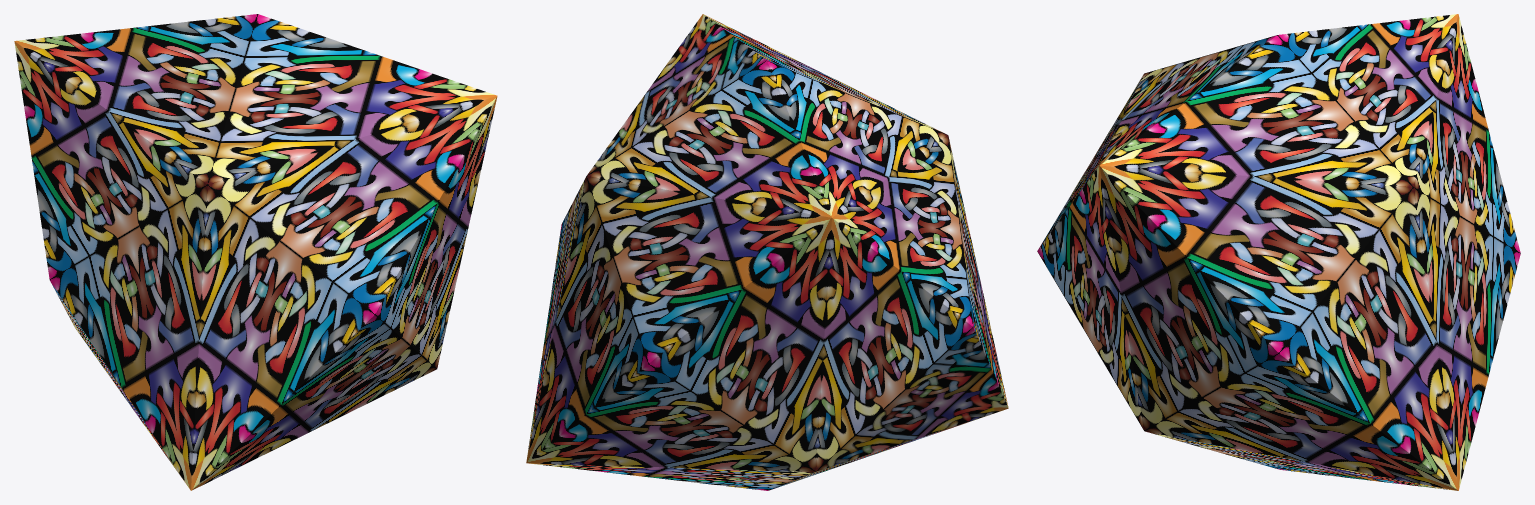
The model's file is 33HexakisTetrahedron.obj.
3 views of the same model, side by side, from view 1: azimuth 30°, elevation 25°; view 2: azimuth 150°, elevation 25°; view 3: azimuth 270°, elevation 25° (orthographic).
Bounding box in the file's own units: 9.9 × 9.85 × 9.9.
Materials: 1 (1 with a texture image).
